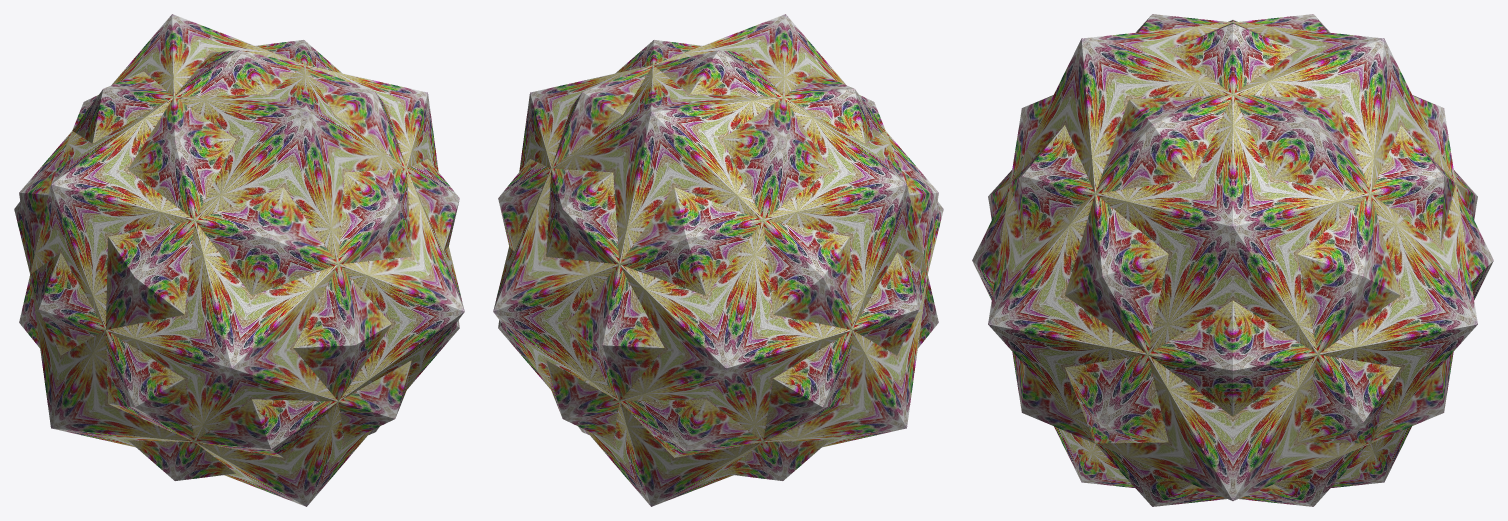
The model's file is MedialDeltoidalHexecontahedron5.obj.
3 views of the same model, side by side, from view 1: azimuth 30°, elevation 25°; view 2: azimuth 150°, elevation 25°; view 3: azimuth 270°, elevation 25° (orthographic). The views are drawn at different scales.
Bounding box in the file's own units: 2.68 × 2.68 × 2.68.
Materials: 1 (1 with a texture image).
